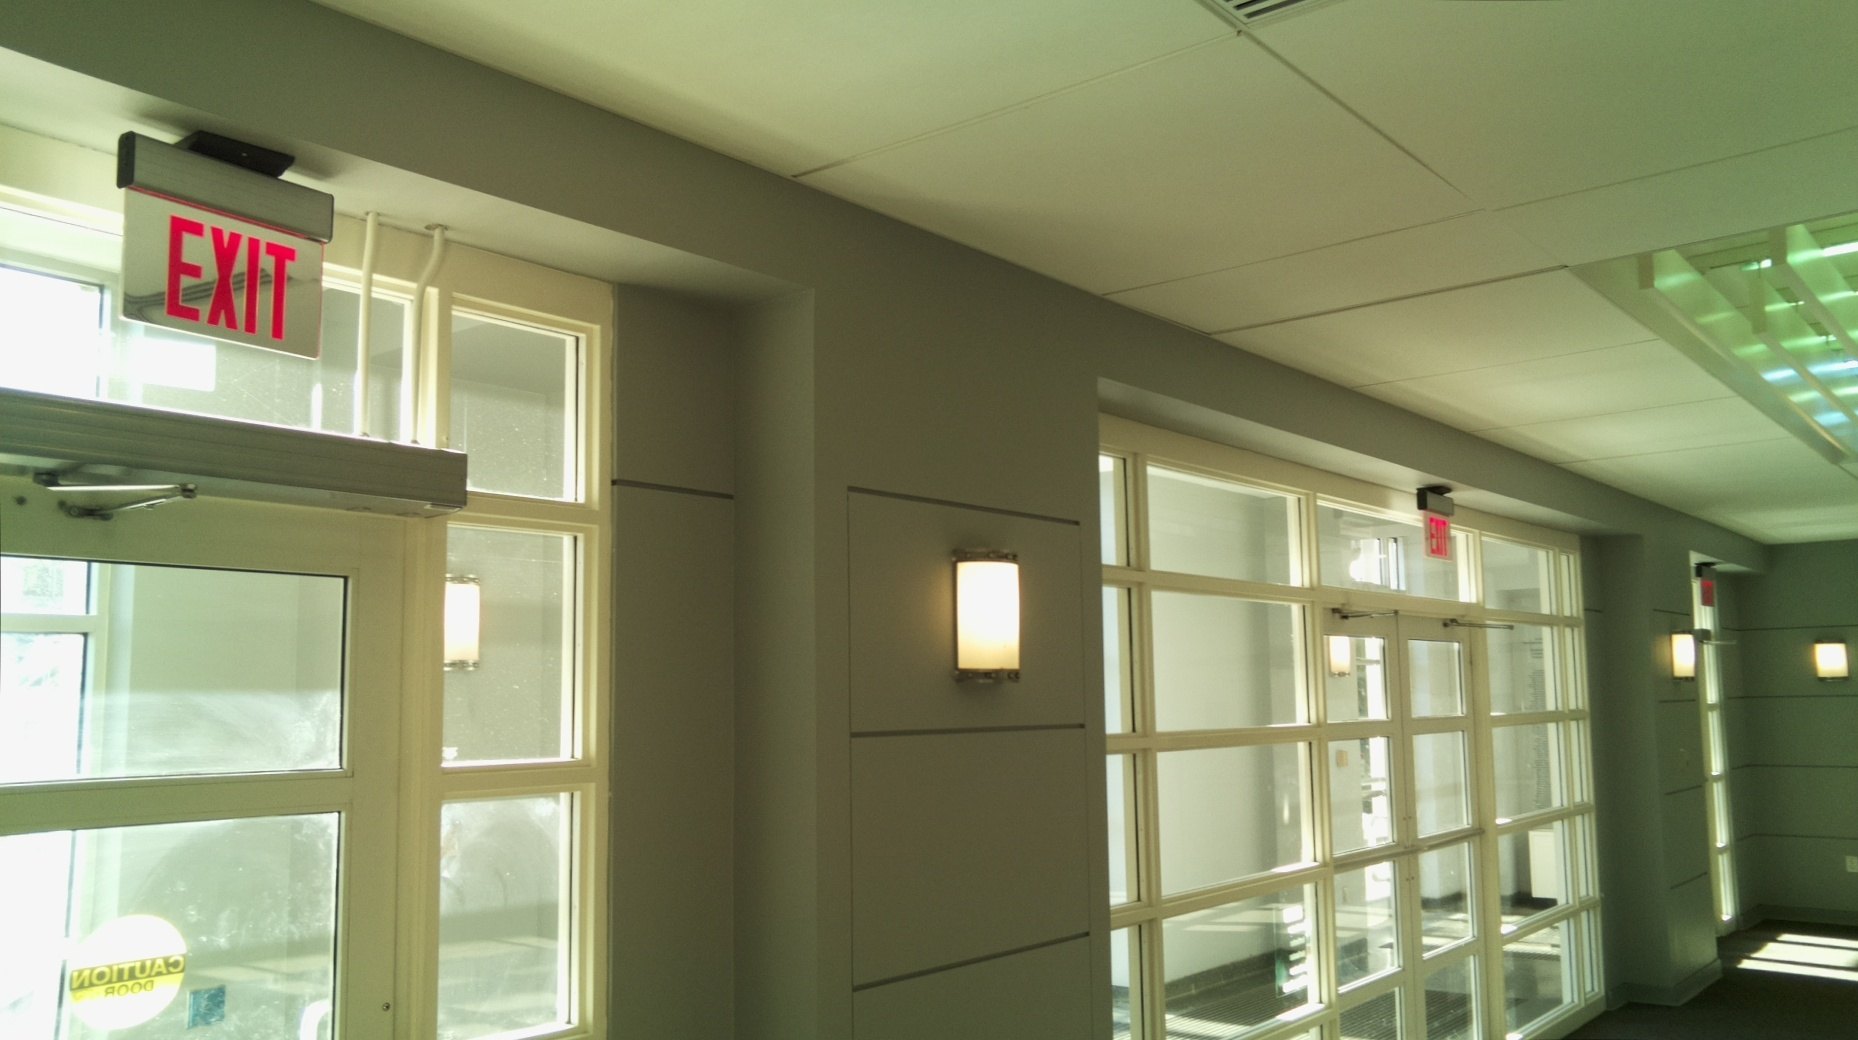exit sign: (111, 180, 334, 366), (1420, 508, 1456, 563), (1698, 579, 1718, 609)
